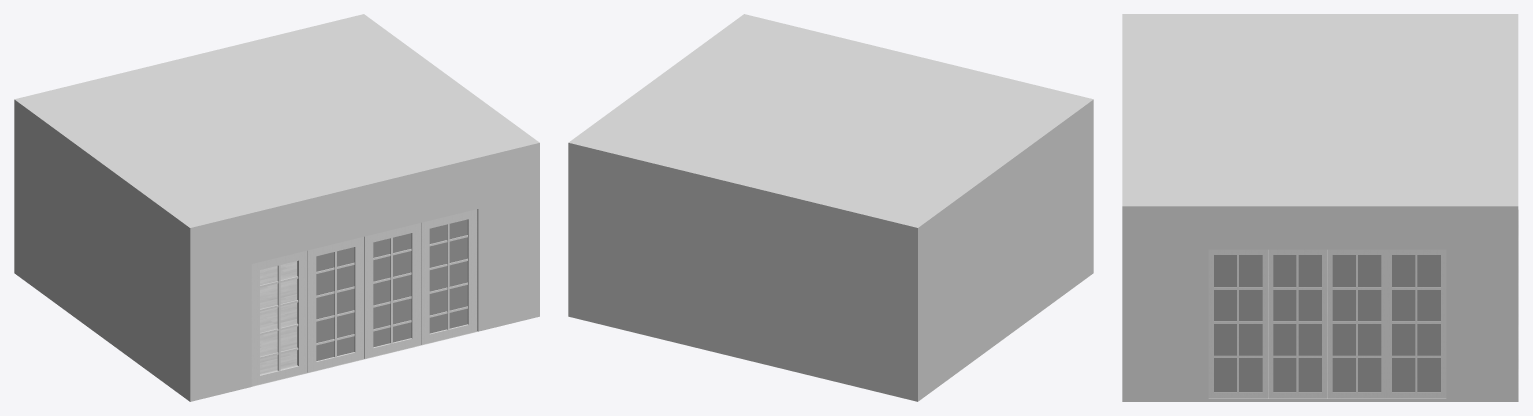
Rendered from VIPRoom.fbx.
3 views of the same model, side by side, from view 1: azimuth 30°, elevation 25°; view 2: azimuth 150°, elevation 25°; view 3: azimuth 270°, elevation 25° (orthographic). The views are drawn at different scales.
Visible parts, largest first — view 1: Room, Roof; view 2: Room, Roof; view 3: Room, Roof.
Boxes of the visible parts, x1,y1,x2,y2 form: Room: (14, 99, 539, 401); Roof: (14, 14, 539, 227); Room: (568, 99, 1093, 401); Roof: (568, 14, 1093, 227); Room: (1122, 206, 1518, 401); Roof: (1122, 14, 1518, 206).
Size of the model in its own units: 98.91 by 46.99 by 86.25.
11 materials, 7 textured.
